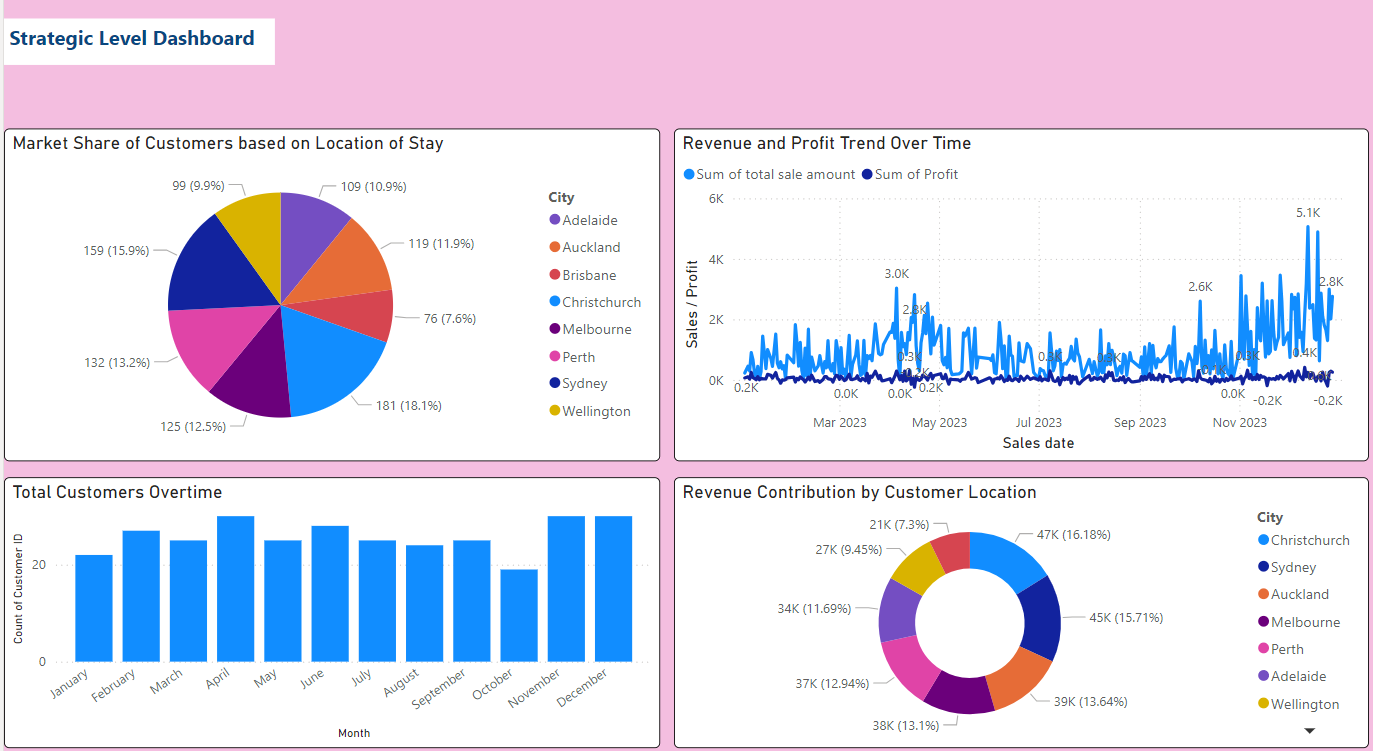

Layout of this report page (visuals, bound fields, positions):
{"tool":"powerbi","page":{"name":"Strategic Level Dashboard","canvas":[1280,720],"ordinal":1},"visuals":[{"type":"pieChart","title":"Market Share of Customers based on Location of Stay","fields":{"Series":["Customer.City"],"Y":["CountNonNull(Sales.customer ID)"]},"box":[0,132.6,610.5,309.3],"z":0},{"type":"lineChart","title":"Revenue and Profit Trend Over Time","fields":{"Category":["Sales.date"],"Y":["Sum(Sales.total sale amount)","Sum(Sales.Profit)"]},"box":[623.3,132.6,646.5,309.3],"z":1000},{"type":"clusteredColumnChart","title":"Total Customers Overtime","fields":{"Y":["CountNonNull(Customer.Customer ID)"],"Category":["Sales.date.Variation.Date Hierarchy.Month"]},"box":[0,457,610.5,252.3],"z":2000},{"type":"donutChart","title":"Revenue Contribution by Customer Location","fields":{"Y":["Sum(Sales.total sale amount)"],"Category":["Customer.City"]},"box":[623.3,457,646.5,252.3],"z":3000},{"type":"textbox","box":[0,30.2,252.3,43],"z":3001}]}

Visuals, with their boxes in screenshot pixels (x1, y1, x2, y2), scaled from the page's 1280x720 canvas onto the 1373x751 screenshot:
"Market Share of Customers based on Location of Stay" pieChart: <bbox>0, 138, 655, 461</bbox>
"Revenue and Profit Trend Over Time" lineChart: <bbox>669, 138, 1362, 461</bbox>
"Total Customers Overtime" clusteredColumnChart: <bbox>0, 477, 655, 740</bbox>
"Revenue Contribution by Customer Location" donutChart: <bbox>669, 477, 1362, 740</bbox>
textbox: <bbox>0, 32, 271, 76</bbox>
